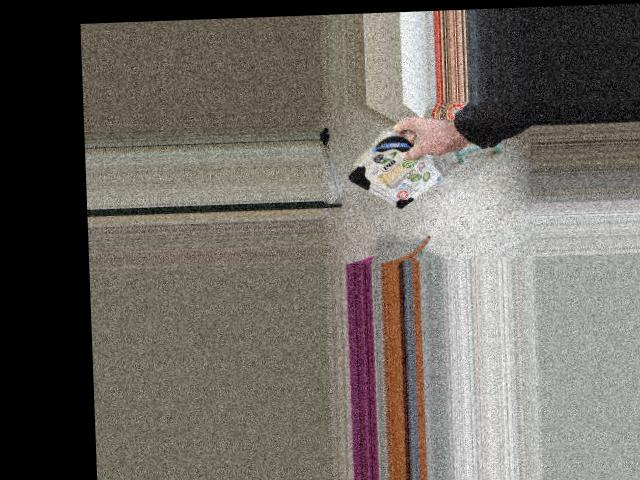cheese: (348, 111, 429, 219)
